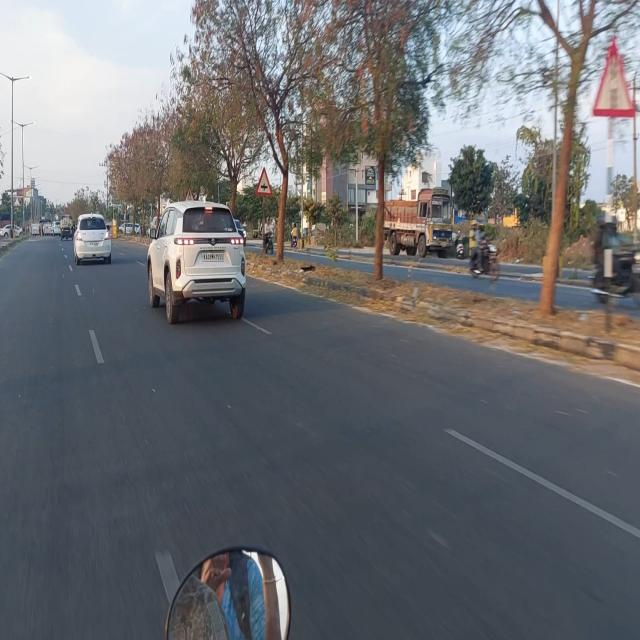bien_cam: (593, 34, 635, 120), (256, 161, 271, 200), (185, 187, 195, 199)
